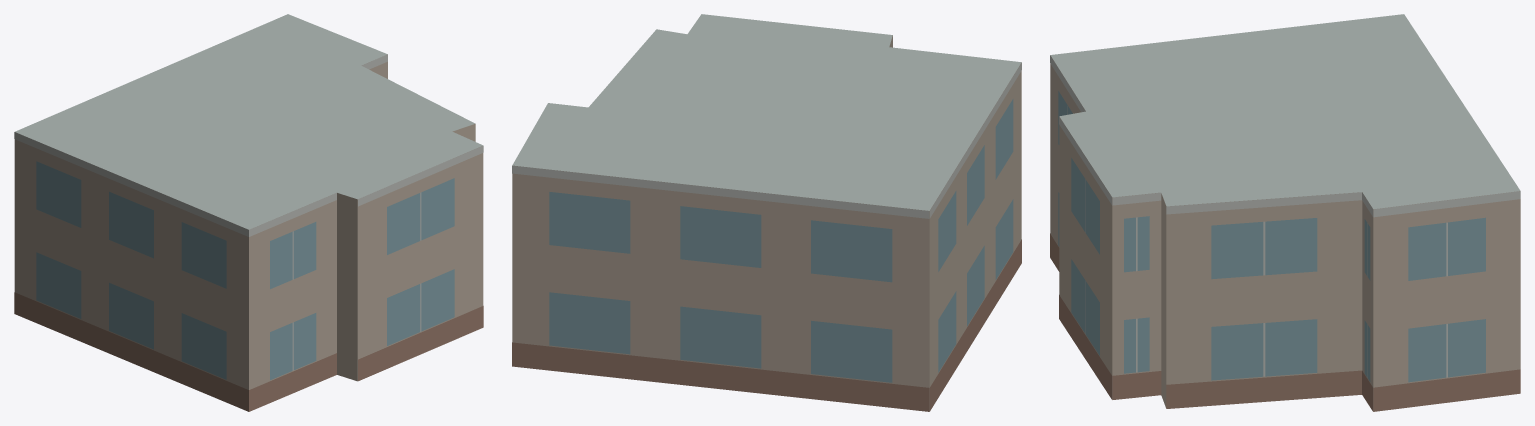
The model's file is survey-upis-32979043.glb.
3 renders of one model, left to right at view 1: azimuth 30°, elevation 25°; view 2: azimuth 150°, elevation 25°; view 3: azimuth 270°, elevation 25°, orthographic. The views are drawn at different scales.
Parts seen in each view (by area): view 1: survey-upis-32979043.tmp; view 2: survey-upis-32979043.tmp; view 3: survey-upis-32979043.tmp.
Boxes of the visible parts, x1=… form: survey-upis-32979043.tmp: x1=14, y1=14, x2=483, y2=411; survey-upis-32979043.tmp: x1=512, y1=14, x2=1021, y2=411; survey-upis-32979043.tmp: x1=1050, y1=14, x2=1520, y2=411.
Bounding box in the file's own units: 12.62 × 6.1 × 12.85.
